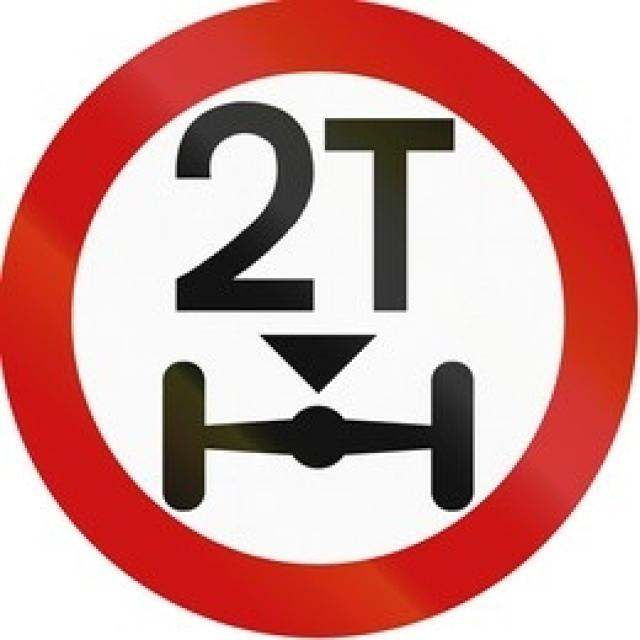axle load limit: (18, 13, 627, 628)
